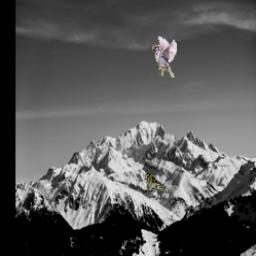Sparrow: (152, 37, 178, 77), (144, 171, 167, 193)
